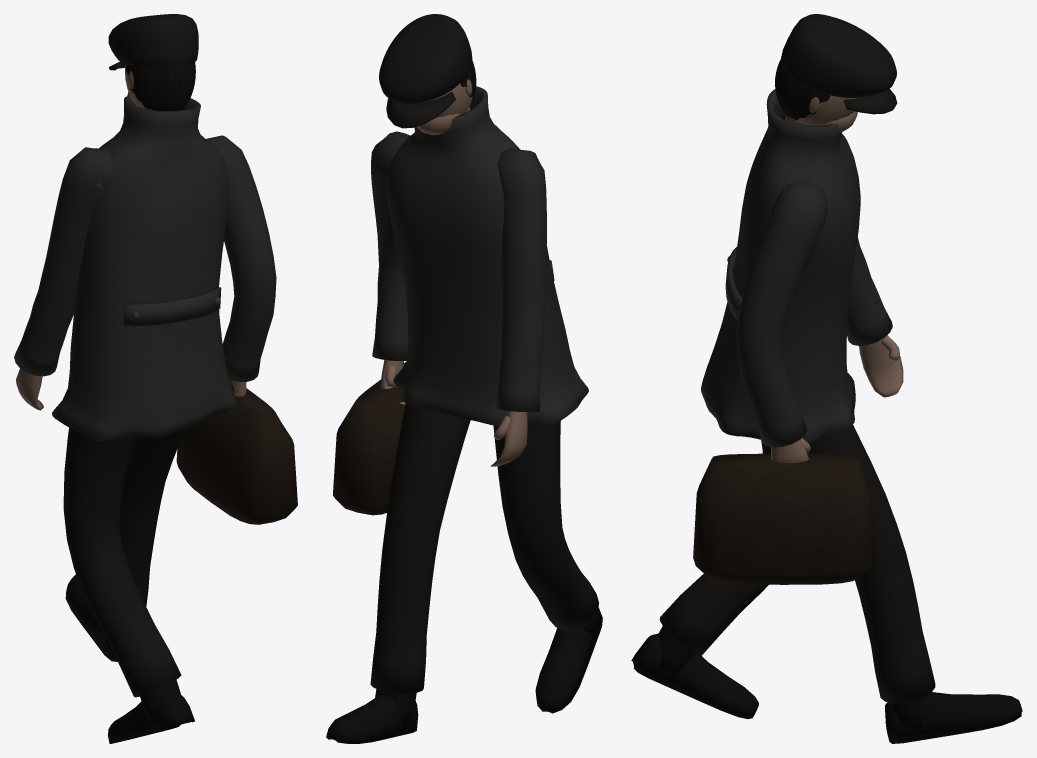
File: walker-man-bag.glb
3 views of the same model, side by side, from view 1: azimuth 30°, elevation 25°; view 2: azimuth 150°, elevation 25°; view 3: azimuth 270°, elevation 25° (orthographic). The views are drawn at different scales.
Visible parts, largest first — view 1: walker-man-bag-body; view 2: walker-man-bag-body; view 3: walker-man-bag-body.
Part boxes in pixels (left/top/right/bottom): walker-man-bag-body: left=14, top=14, right=297, bottom=743; walker-man-bag-body: left=326, top=14, right=602, bottom=743; walker-man-bag-body: left=631, top=14, right=1022, bottom=743.
Size of the model in its own units: 0.5793 by 1.79 by 0.8644.
Materials: 8 (6 with a texture image).
